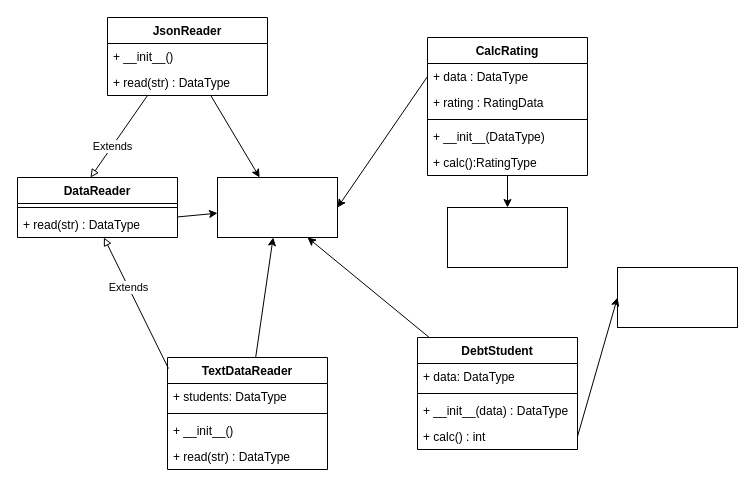
The diagram is 755 pixels wide and 490 high, and some of its shapes have lost their labels. Here are the shapes that lost their labels. From the top down, the centre of each, then its label:
(x=277, y=207): "typedef" DataType
(x=507, y=237): "typedef" RatingType
(x=677, y=297): "typedef" ResultType
